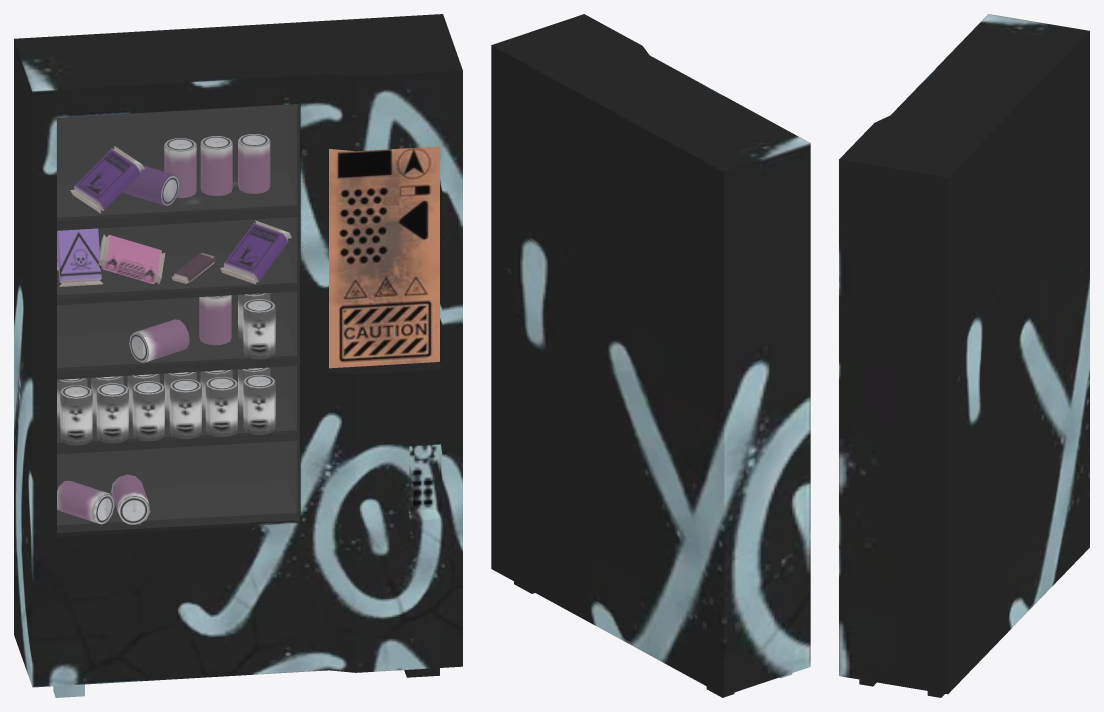
The model's file is vending-machine-neon.glb.
The picture shows the model from 3 angles, left to right: view 1: azimuth 30°, elevation 25°; view 2: azimuth 150°, elevation 25°; view 3: azimuth 270°, elevation 25°; orthographic projection. The views are drawn at different scales.
Parts seen in each view (by area): view 1: Machine, glass, Bag5, Bag4, Bag, Bag1, Can15, Can19, Can14, Can18, Can3, Can9 (+10 smaller); view 2: Machine; view 3: Machine.
Boxes of the visible parts, box(x1,y1,x2,y2) form: Machine: box(14, 14, 462, 697); glass: box(57, 104, 299, 532); Bag5: box(70, 146, 144, 213); Bag4: box(220, 220, 291, 284); Bag: box(57, 228, 102, 286); Bag1: box(98, 235, 165, 284); Can15: box(60, 385, 92, 445); Can19: box(132, 381, 164, 441); Can14: box(205, 377, 237, 437); Can18: box(96, 383, 128, 443); Can3: box(169, 379, 201, 439); Can9: box(243, 299, 275, 359); Machine: box(491, 14, 810, 697); Machine: box(839, 14, 1089, 697).
Bounding box in the file's own units: 1.26 × 1.9 × 0.816.
Materials: 1 (1 with a texture image).
